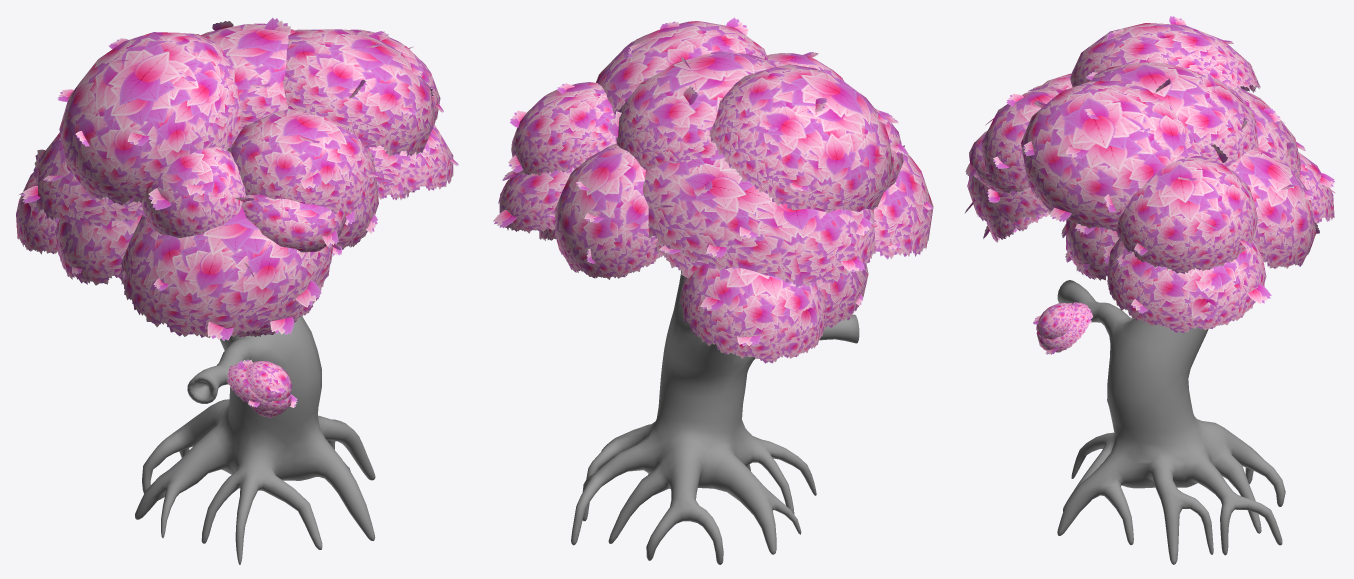
File: BigTree_OK (1).fbx
The picture shows the model from 3 angles, left to right: view 1: azimuth 30°, elevation 25°; view 2: azimuth 150°, elevation 25°; view 3: azimuth 270°, elevation 25°; orthographic projection. The views are drawn at different scales.
Parts seen in each view (by area): view 1: Big_Tree_HOJAS, Big_Tree_Low; view 2: Big_Tree_HOJAS, Big_Tree_Low; view 3: Big_Tree_HOJAS, Big_Tree_Low.
Part boxes in pixels (x1,y1,x2,y2): Big_Tree_HOJAS: [16, 17, 458, 417]; Big_Tree_Low: [135, 316, 375, 564]; Big_Tree_HOJAS: [493, 17, 933, 363]; Big_Tree_Low: [571, 271, 859, 564]; Big_Tree_HOJAS: [965, 16, 1335, 354]; Big_Tree_Low: [1057, 280, 1285, 564].
Size of the model in its own units: 3033 by 3545 by 2714.
